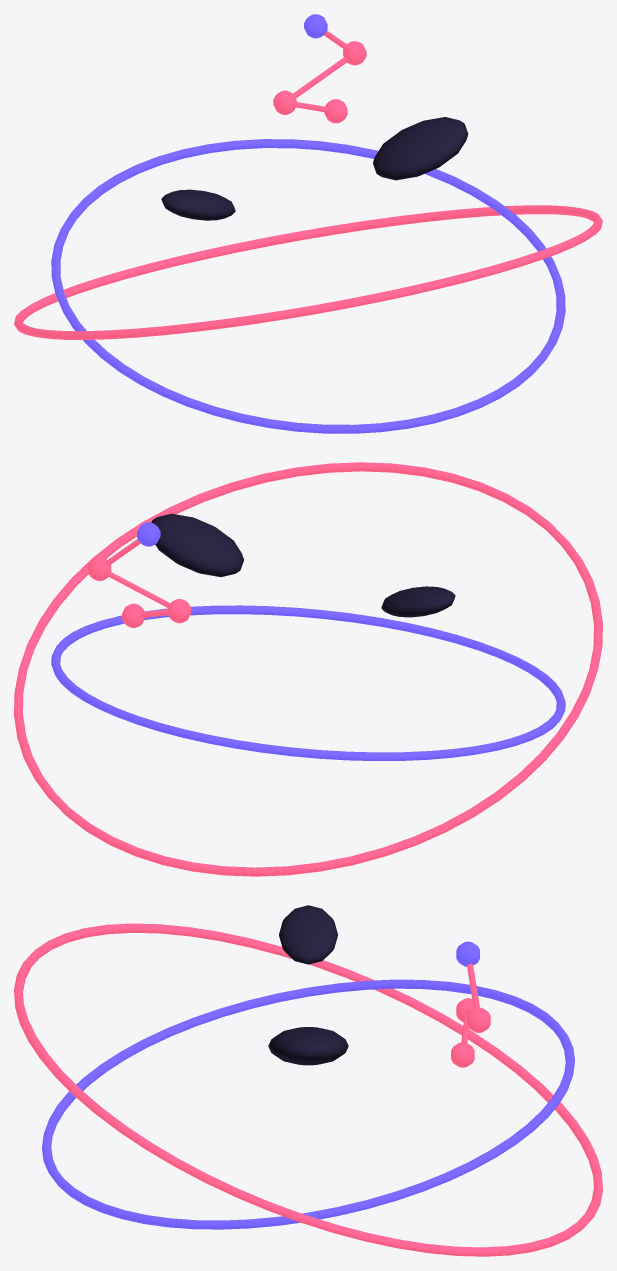
File: avatar-nebulosa-kit-estrategista.glb
3 renders of one model, top to bottom at view 1: azimuth 30°, elevation 25°; view 2: azimuth 150°, elevation 25°; view 3: azimuth 270°, elevation 25°, orthographic. The views are drawn at different scales.
Parts seen in each view (by area): view 1: kit_nebulosa_estrategista_orbitA, kit_nebulosa_estrategista_orbitB, kit_nebulosa_estrategista_plateL, kit_nebulosa_estrategista_plateR; view 2: kit_nebulosa_estrategista_orbitB, kit_nebulosa_estrategista_orbitA, kit_nebulosa_estrategista_plateL, kit_nebulosa_estrategista_plateR; view 3: kit_nebulosa_estrategista_orbitB, kit_nebulosa_estrategista_orbitA, kit_nebulosa_estrategista_plateR, kit_nebulosa_estrategista_plateL, kit_nebulosa_estrategista_constNode1, kit_nebulosa_estrategista_constNode3, kit_nebulosa_estrategista_constNode0.
Part boxes in pixels (x1,y1,x2,y2): kit_nebulosa_estrategista_orbitA: (51, 139, 565, 433); kit_nebulosa_estrategista_orbitB: (14, 205, 602, 339); kit_nebulosa_estrategista_plateL: (373, 117, 468, 180); kit_nebulosa_estrategista_plateR: (161, 189, 235, 220); kit_nebulosa_estrategista_orbitB: (14, 462, 602, 876); kit_nebulosa_estrategista_orbitA: (51, 605, 565, 760); kit_nebulosa_estrategista_plateL: (151, 513, 243, 576); kit_nebulosa_estrategista_plateR: (381, 586, 455, 617); kit_nebulosa_estrategista_orbitB: (14, 923, 602, 1256); kit_nebulosa_estrategista_orbitA: (42, 979, 574, 1229); kit_nebulosa_estrategista_plateR: (279, 905, 337, 964); kit_nebulosa_estrategista_plateL: (268, 1027, 348, 1065); kit_nebulosa_estrategista_constNode1: (467, 1007, 490, 1032); kit_nebulosa_estrategista_constNode3: (451, 1042, 474, 1067); kit_nebulosa_estrategista_constNode0: (456, 941, 479, 966).
Bounding box in the file's own units: 1.18 × 0.6013 × 1.11.
